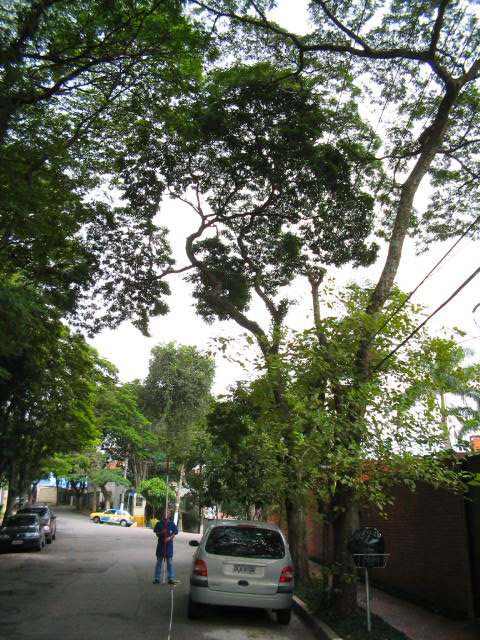crown: (129, 63, 386, 285)
stem: (258, 355, 317, 578)
stick: (156, 456, 171, 583)
tree: (127, 63, 386, 580)
